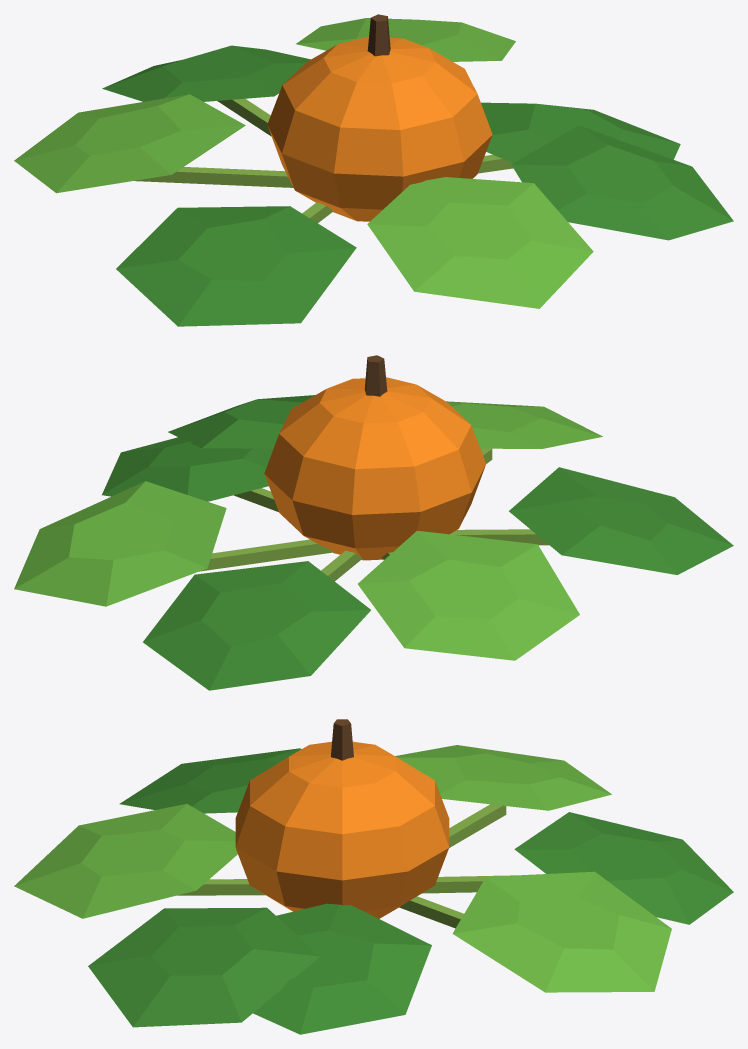
File: pumpkin_4.obj
3 views of the same model, one above another, from view 1: azimuth 30°, elevation 25°; view 2: azimuth 150°, elevation 25°; view 3: azimuth 270°, elevation 25° (orthographic).
Visible parts, largest first — view 1: plant; view 2: plant; view 3: plant.
Part boxes in pixels (left/top/right/bottom): plant: left=14, top=14, right=733, bottom=326; plant: left=14, top=355, right=733, bottom=690; plant: left=14, top=719, right=733, bottom=1034.
Size of the model in its own units: 1.06 by 0.344 by 1.18.
